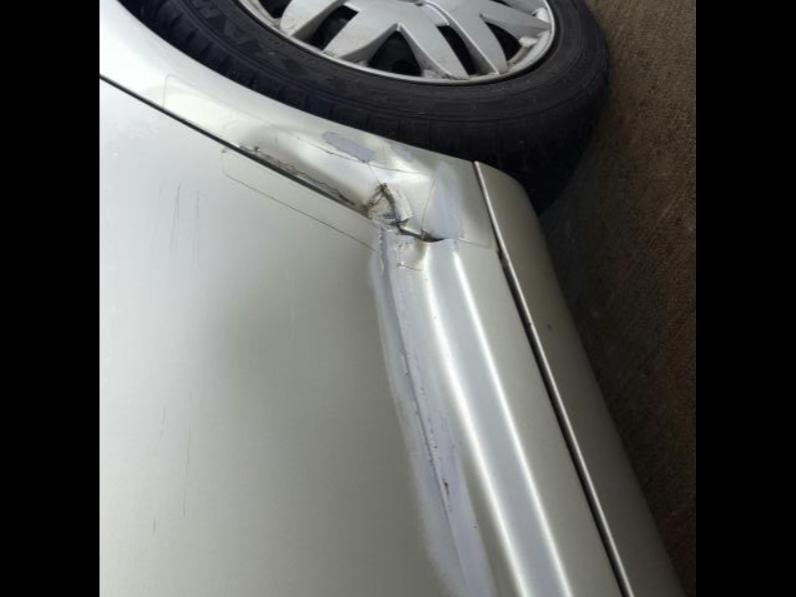Cracked: (373, 179, 448, 245)
Dent: (355, 223, 501, 597), (239, 124, 436, 224)
Scratch: (378, 234, 455, 538), (218, 144, 382, 252)
